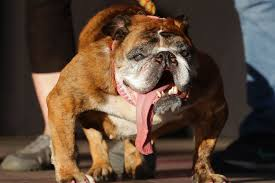Bulldog: (24, 4, 250, 183)
